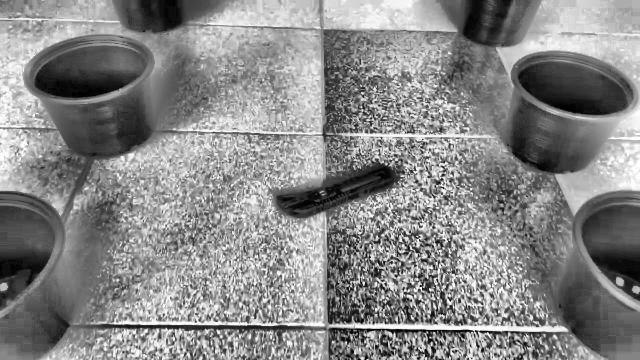pot: (502, 50, 640, 176), (22, 34, 156, 160), (562, 191, 640, 360), (0, 192, 66, 356)
